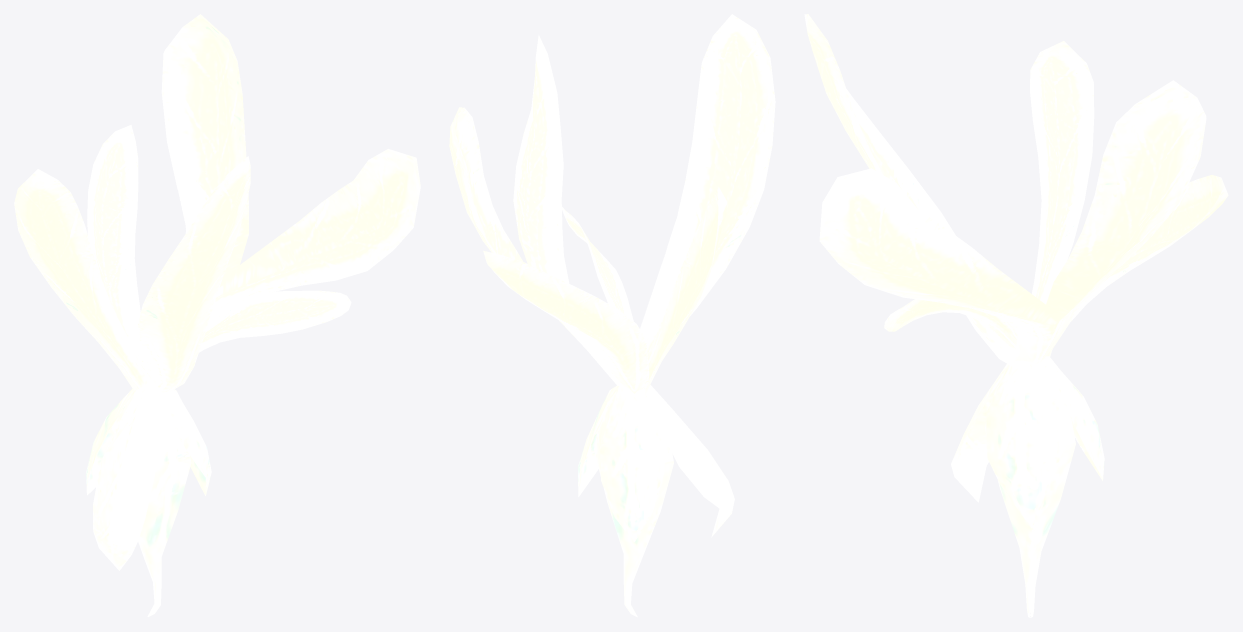
3 views of the same model, side by side, from view 1: azimuth 30°, elevation 25°; view 2: azimuth 150°, elevation 25°; view 3: azimuth 270°, elevation 25° (orthographic). The views are drawn at different scales.
Visible parts, largest first — view 1: SM_Marrentil_v2_LOD0; view 2: SM_Marrentil_v2_LOD0; view 3: SM_Marrentil_v2_LOD0.
Part boxes in pixels (<box>): SM_Marrentil_v2_LOD0: <box>14,14,420,616</box>; SM_Marrentil_v2_LOD0: <box>449,14,775,617</box>; SM_Marrentil_v2_LOD0: <box>804,14,1228,617</box>.
Size of the model in its own units: 0.2377 by 0.4177 by 0.2654.
1 material, 1 textured.
